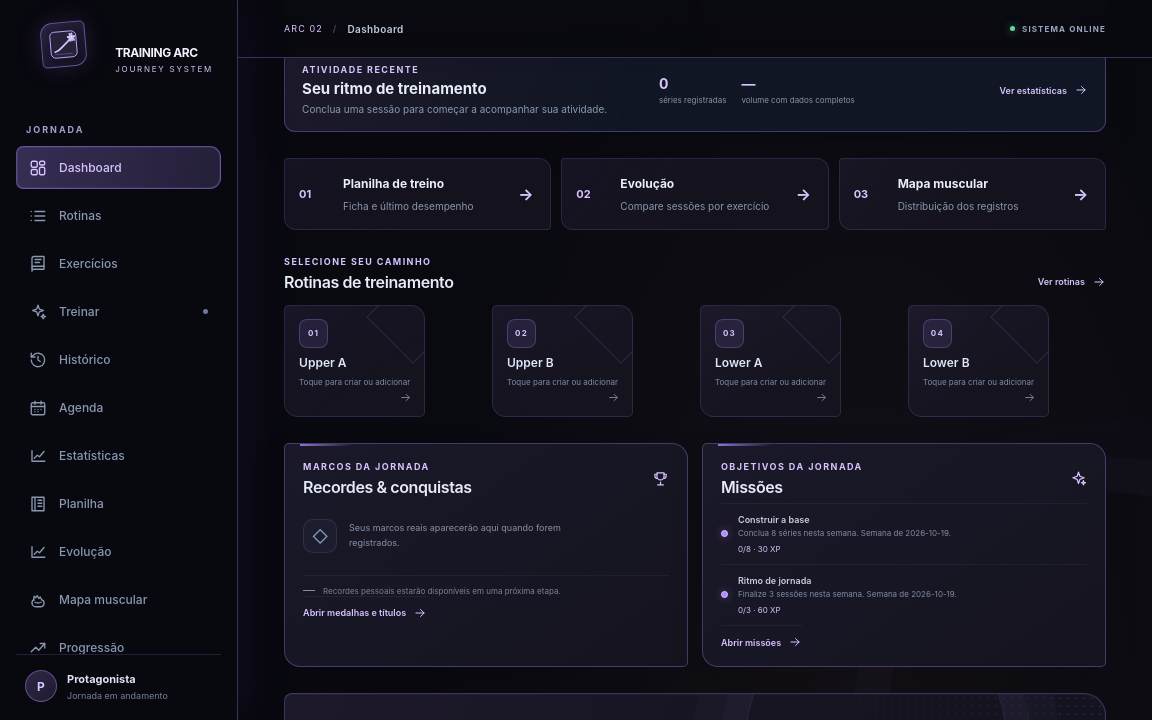
Test: routines flow › offers to create a missing routine when opened from a dashboard shortcut
The width and height of the screenshot is (1152, 720).
(page scrolled)
Click the button with aria-label "Abrir ficha Upper B" at [563, 361], box [492, 305, 633, 417]
(page scrolled)
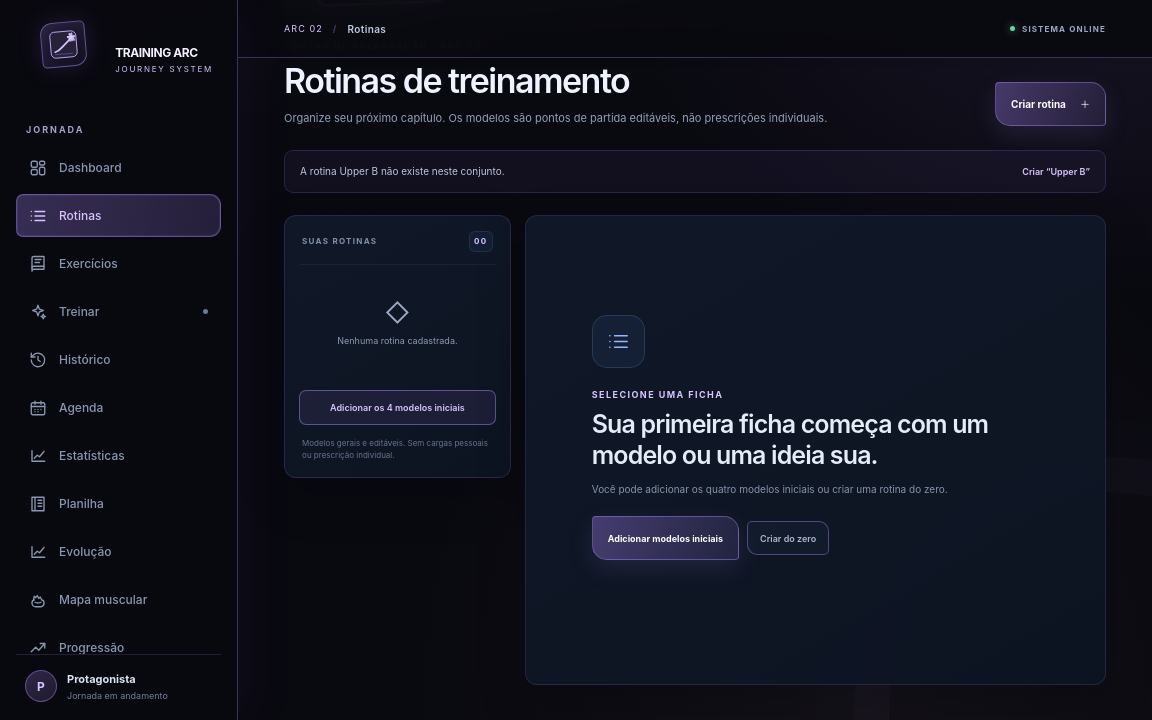
Check: the text "A rotina Upper B não existe neste conjunto." is shown, box [300, 165, 505, 177]
Click the button "Criar “Upper B”" at [1056, 171], box [1022, 163, 1090, 180]
(page scrolled)
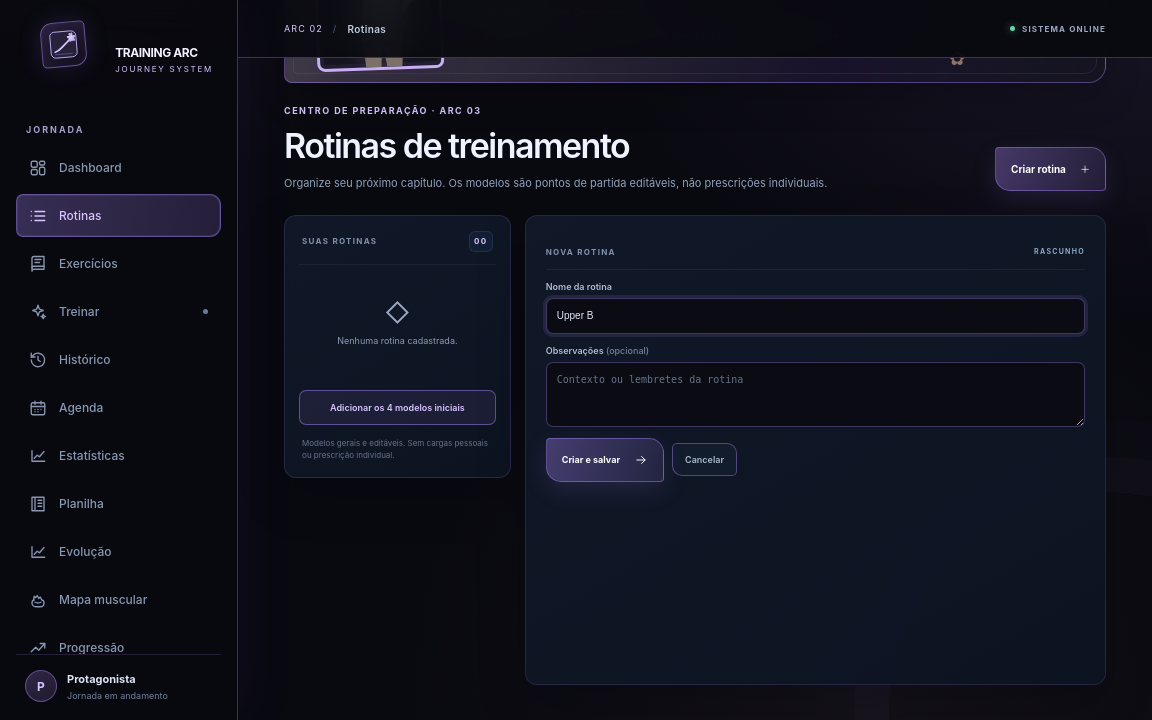
Check: the field labelled "Nome da rotina" holds "Upper B", box [546, 298, 1085, 334]
